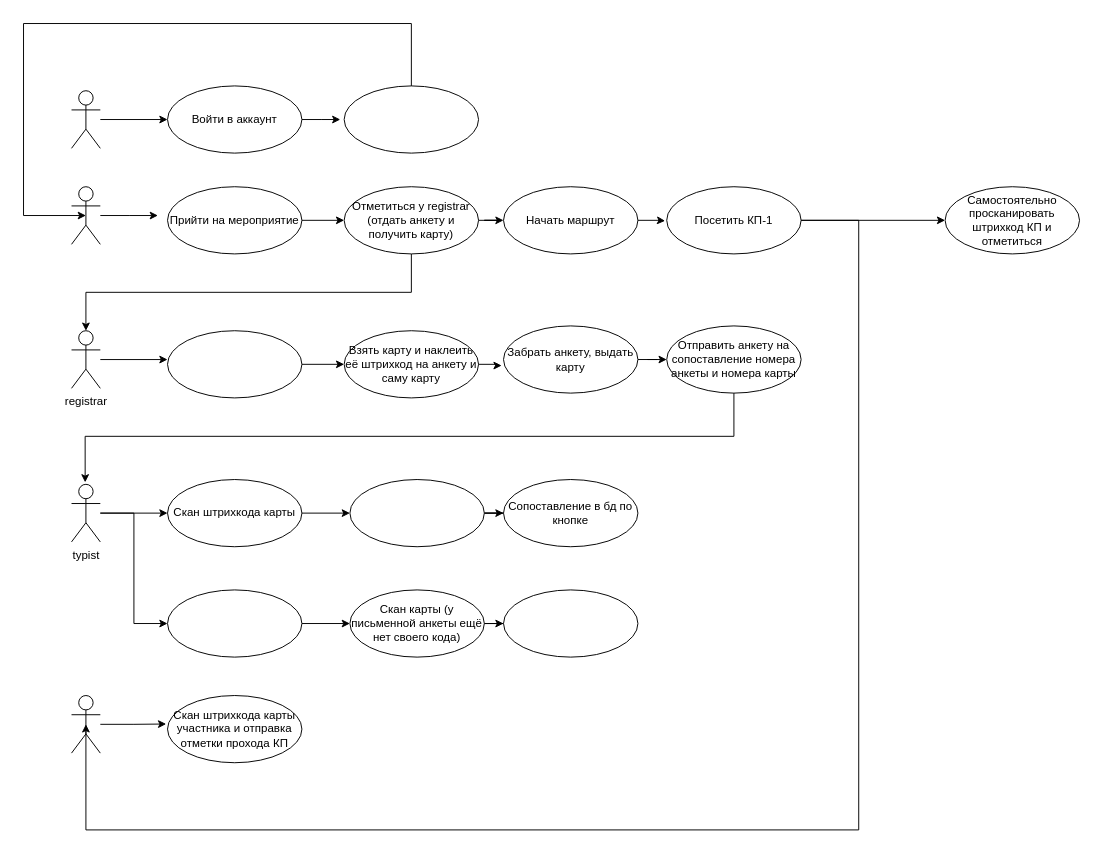
This 1096x854 diagram has some shape labels left out. Here are the shapes that lost their labels. From the top down, the centre of each, then its label:
At (x=85, y=119): "Пользователь".
At (x=411, y=119): "Создать участника".
At (x=85, y=215): "Участник".
At (x=234, y=364): "Отсканировать анкету участника".
At (x=416, y=513): "Скан штрихкода анкеты".
At (x=234, y=623): "OCR письменной анкеты".
At (x=570, y=623): "Добавление участника в БД, сопоставление участника и его карты на лету".
At (x=85, y=724): "marker".
